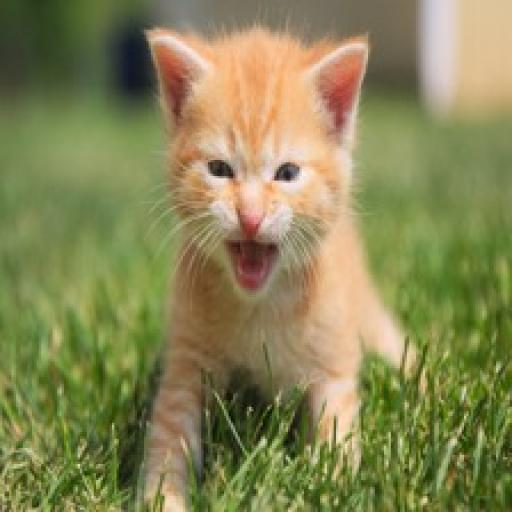cat: (122, 19, 420, 512)
